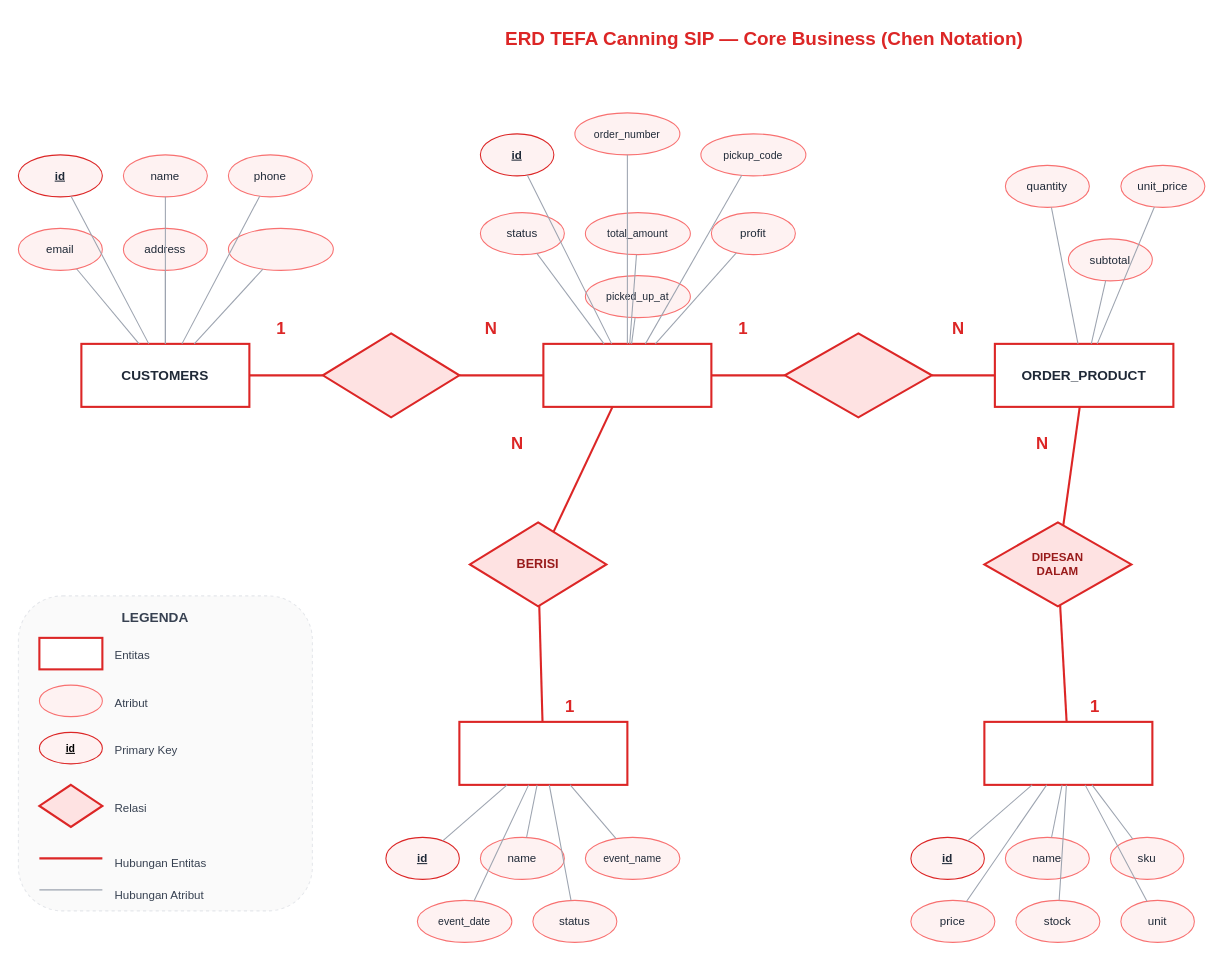
Some shapes in this 1223 by 961 pixel diagram are drawn without their labels. Here are the shapes that lost their labels. From the top down, the box of each, then its label:
(227, 227, 333, 270): organization
(321, 332, 460, 418): MEMILIKI
(542, 342, 712, 407): ORDERS
(783, 332, 932, 418): TERDIRI DARI
(458, 720, 628, 785): BATCHES
(983, 720, 1153, 785): PRODUCTS
